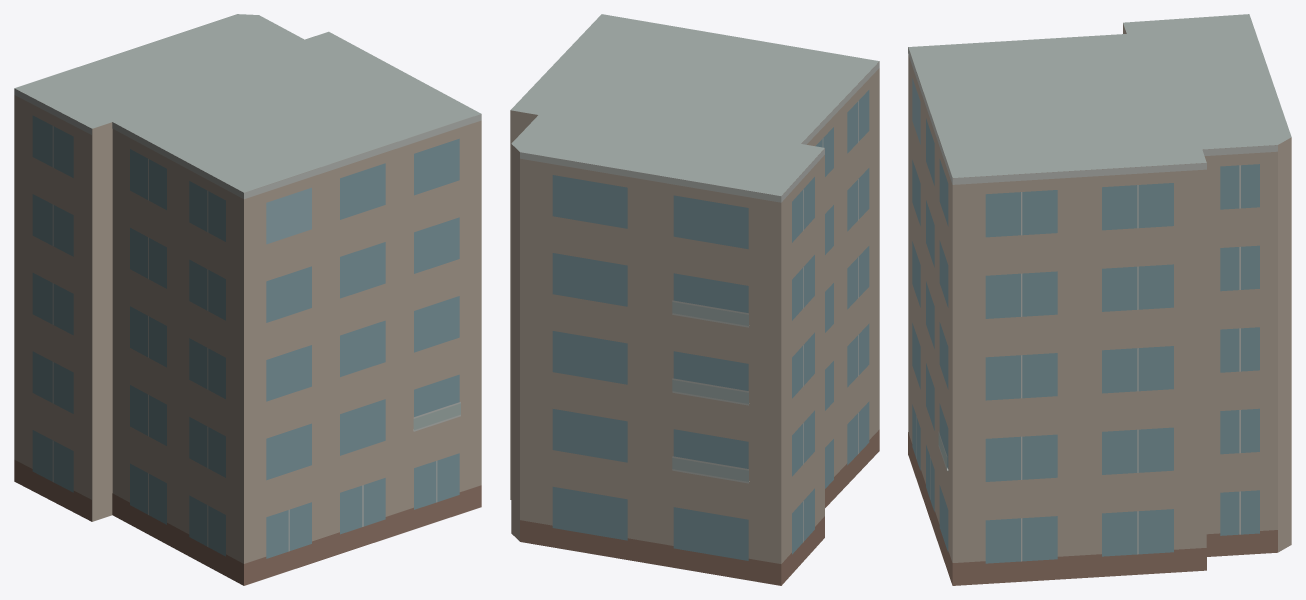
The model's file is survey-upis-32715338.glb.
3 views of the same model, side by side, from view 1: azimuth 30°, elevation 25°; view 2: azimuth 150°, elevation 25°; view 3: azimuth 270°, elevation 25° (orthographic). The views are drawn at different scales.
Visible parts, largest first — view 1: survey-upis-32715338.tmp; view 2: survey-upis-32715338.tmp; view 3: survey-upis-32715338.tmp.
Boxes of the visible parts, x1,y1,x2,y2 form: survey-upis-32715338.tmp: (14, 14, 481, 585); survey-upis-32715338.tmp: (510, 14, 879, 585); survey-upis-32715338.tmp: (908, 14, 1291, 585).
Size of the model in its own units: 12.61 by 14.6 by 12.45.
